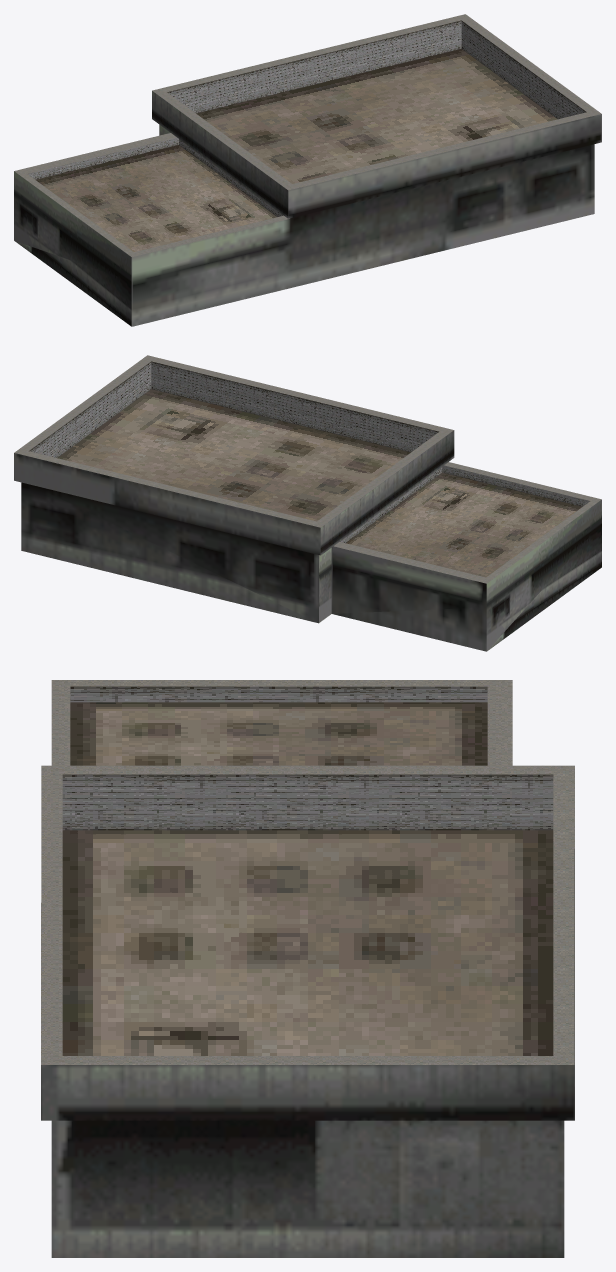
The model's file is lodwrehse17.obj.
3 views of the same model, one above another, from view 1: azimuth 30°, elevation 25°; view 2: azimuth 150°, elevation 25°; view 3: azimuth 270°, elevation 25° (orthographic). The views are drawn at different scales.
Parts seen in each view (by area): view 1: lodwrehse17; view 2: lodwrehse17; view 3: lodwrehse17.
Part boxes in pixels (box(x1,y1,x2,y2)): lodwrehse17: box(14, 14, 601, 326); lodwrehse17: box(14, 355, 601, 651); lodwrehse17: box(41, 680, 574, 1257).
Bounding box in the file's own units: 48.4 × 9.98 × 24.47.
Materials: 4 (4 with a texture image).
